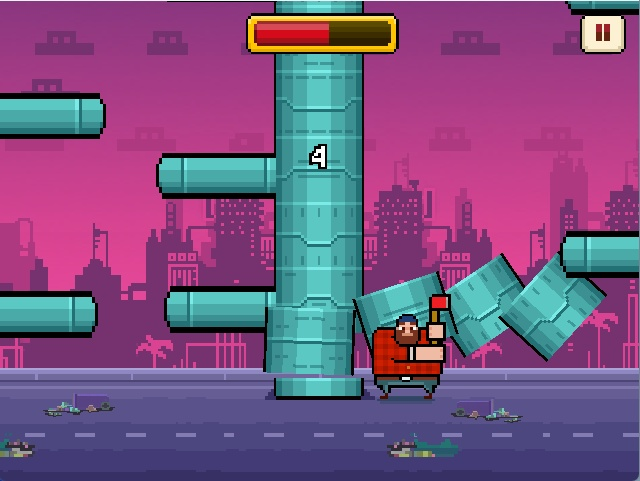left_obs: (160, 278, 285, 346), (148, 147, 283, 205)
timberman: (367, 282, 461, 406)
